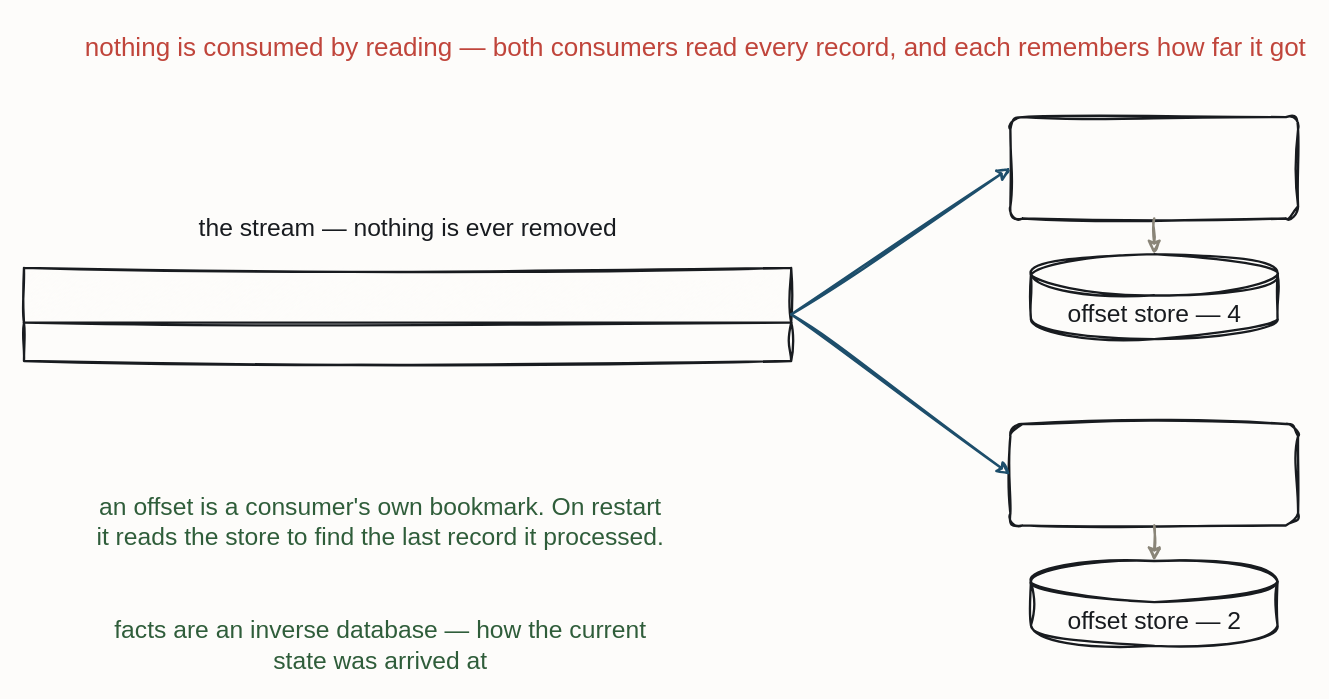
The diagram is 1329 pixels wide and 699 high, and some of its shapes have lost their labels. Each missing label, with the box of its shape:
Consumer One: (1009, 115, 1299, 219)
Consumer Two: (1009, 422, 1299, 526)
